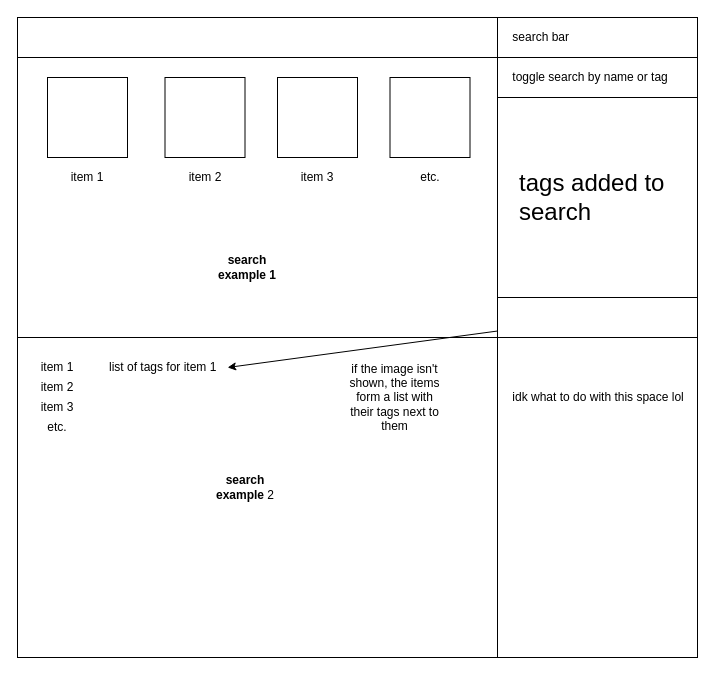
Some shapes in this 715 by 675 pixel diagram are drawn without their labels. Each missing label, with the box of its shape:
database title: (16, 16, 498, 58)
toggle shown image?: (496, 296, 698, 338)
